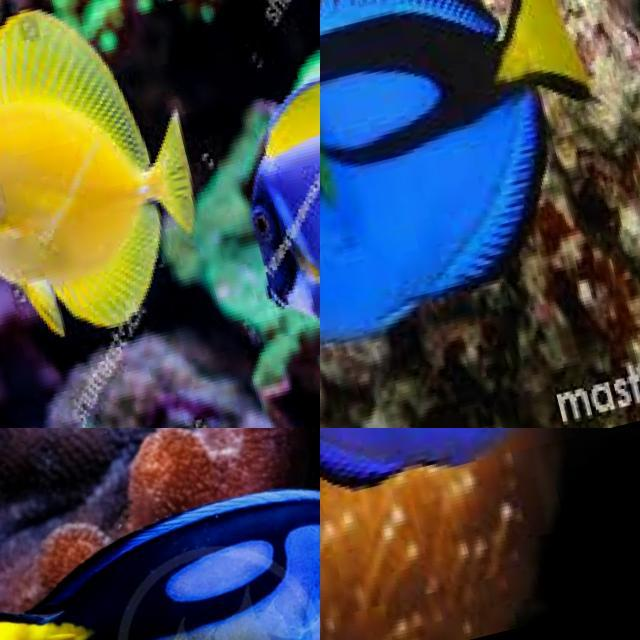BlueTang: (320, 0, 640, 398), (0, 431, 320, 640), (320, 428, 585, 640), (196, 14, 320, 402)
